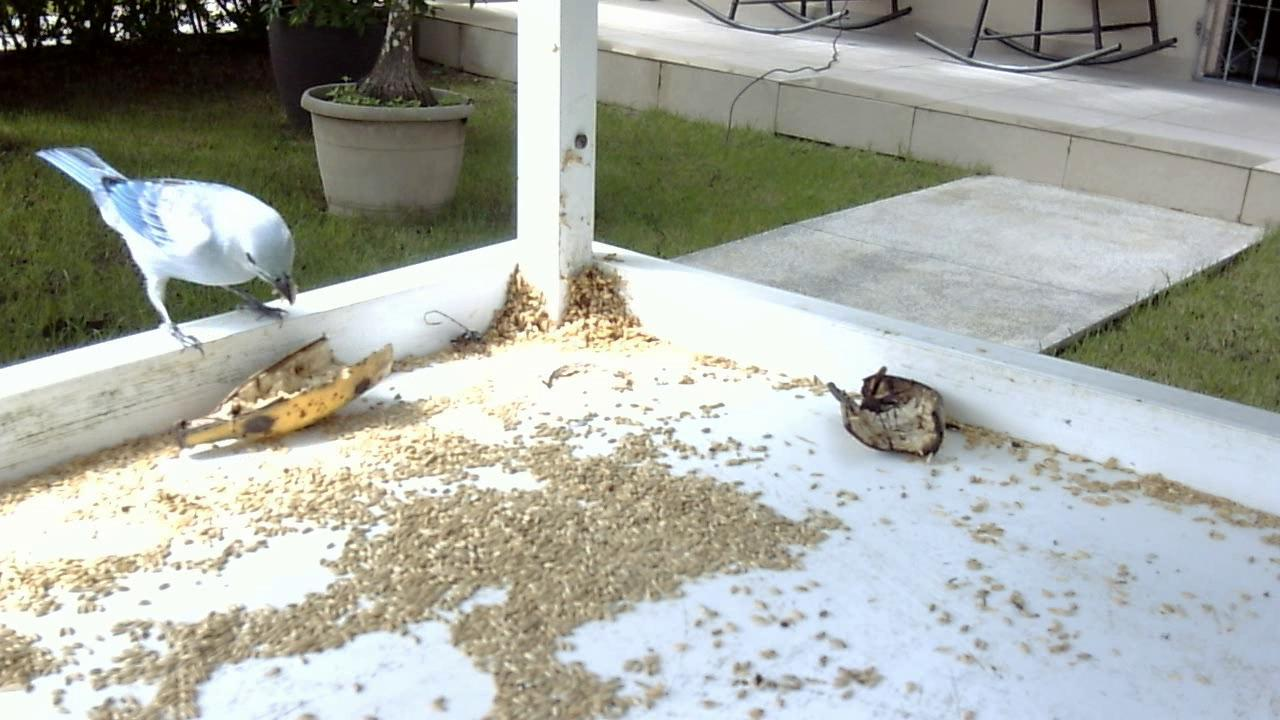sanhaco_da_amazonia: (26, 141, 305, 363)
